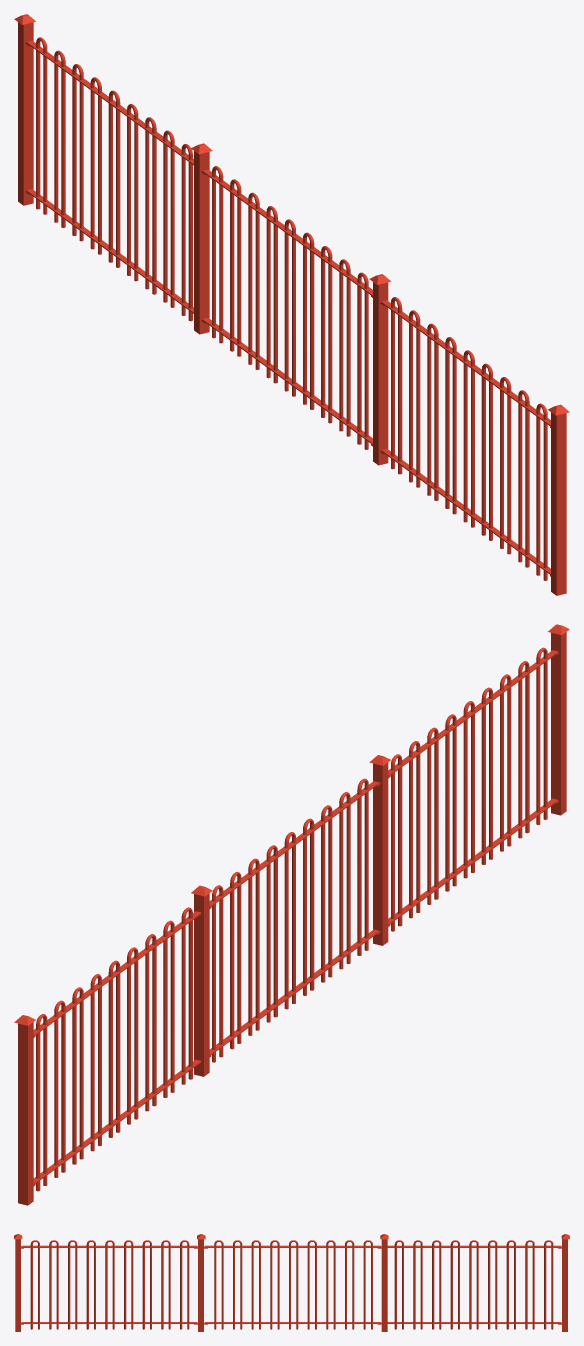
The model's file is uploads_files_4166987_panou-gard-pe-rotund-intors.fbx.
3 views of the same model, one above another, from view 1: azimuth 30°, elevation 25°; view 2: azimuth 150°, elevation 25°; view 3: azimuth 270°, elevation 25° (orthographic). The views are drawn at different scales.
Visible parts, largest first — view 1: Cylinder.069, Cylinder.068, Cylinder.067, Cube.304, Cube.323, Cube.310, Cube.318, Cube.316, Cube.317, Cube.308, Cube.309, Cube.321 (+1 smaller); view 2: Cylinder.069, Cylinder.068, Cylinder.067, Cube.323, Cube.318, Cube.310, Cube.304, Cube.317, Cube.316, Cube.309, Cube.308, Cube.321 (+1 smaller); view 3: Cylinder.067, Cylinder.069, Cylinder.068, Cube.318, Cube.304, Cube.310, Cube.323, Cube.316, Cube.308, Cube.321, Cube.317, Cube.309 (+1 smaller).
Part boxes in pixels (<box>): Cylinder.069: <box>36,37,192,321</box>; Cylinder.068: <box>212,166,368,449</box>; Cylinder.067: <box>391,297,547,580</box>; Cube.304: <box>551,412,566,595</box>; Cube.323: <box>18,22,33,205</box>; Cube.310: <box>373,282,388,465</box>; Cube.318: <box>194,151,209,334</box>; Cube.316: <box>202,169,372,296</box>; Cube.317: <box>202,318,372,444</box>; Cube.308: <box>381,300,550,426</box>; Cube.309: <box>381,448,550,574</box>; Cube.321: <box>26,40,193,165</box>; Cylinder.069: <box>36,907,192,1191</box>; Cylinder.068: <box>212,778,368,1062</box>; Cylinder.067: <box>391,647,547,931</box>; Cube.323: <box>18,1022,33,1205</box>; Cube.318: <box>194,893,209,1076</box>; Cube.310: <box>373,762,388,945</box>; Cube.304: <box>551,632,566,815</box>; Cube.317: <box>209,929,379,1055</box>; Cube.316: <box>209,781,379,907</box>; Cube.309: <box>388,798,558,925</box>; Cube.308: <box>388,650,558,776</box>; Cube.321: <box>33,911,201,1036</box>; Cylinder.067: <box>30,1240,189,1329</box>; Cylinder.069: <box>394,1240,553,1329</box>; Cylinder.068: <box>214,1240,372,1329</box>; Cube.318: <box>381,1239,387,1331</box>; Cube.304: <box>15,1239,20,1331</box>; Cube.310: <box>198,1239,203,1331</box>; Cube.323: <box>562,1239,567,1331</box>; Cube.316: <box>205,1245,380,1247</box>; Cube.308: <box>21,1245,197,1247</box>; Cube.321: <box>387,1245,561,1247</box>; Cube.317: <box>205,1322,380,1323</box>; Cube.309: <box>21,1322,197,1323</box>.
Bounding box in the file's own units: 14.32 × 180 × 949.
